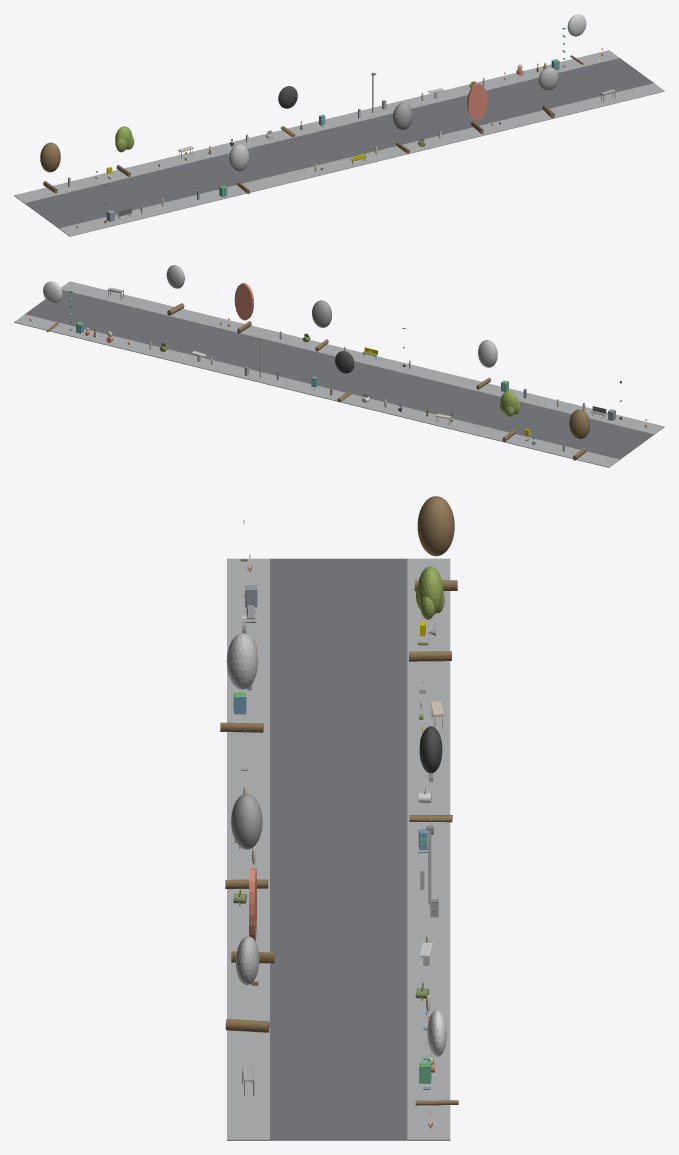
3 views of the same model, one above another, from view 1: azimuth 30°, elevation 25°; view 2: azimuth 150°, elevation 25°; view 3: azimuth 270°, elevation 25° (orthographic). The views are drawn at different scales.
Parts seen in each view (by area): view 1: road_slab, sidewalk_left, sidewalk_right, inst_0023, inst_0018, inst_0020, inst_0022, inst_0019, inst_0024, inst_0021, inst_0025; view 2: road_slab, sidewalk_right, sidewalk_left, inst_0023, inst_0018, inst_0020, inst_0022, inst_0019, inst_0024, inst_0021, inst_0025; view 3: road_slab, sidewalk_right, sidewalk_left, inst_0018, inst_0020, inst_0022, inst_0019, inst_0024, inst_0021, inst_0025.
Part boxes in pixels (left/top/right/bottom): road_slab: left=25, top=58, right=653, bottom=228; sidewalk_left: left=59, top=83, right=664, bottom=236; sidewalk_right: left=14, top=50, right=619, bottom=203; inst_0023: left=467, top=83, right=487, bottom=134; inst_0018: left=40, top=142, right=60, bottom=193; inst_0020: left=229, top=144, right=249, bottom=194; inst_0022: left=392, top=103, right=412, bottom=153; inst_0019: left=115, top=126, right=134, bottom=177; inst_0024: left=538, top=67, right=558, bottom=118; inst_0021: left=278, top=86, right=297, bottom=137; inst_0025: left=567, top=14, right=586, bottom=64; road_slab: left=25, top=290, right=654, bottom=459; sidewalk_right: left=14, top=314, right=619, bottom=467; sidewalk_left: left=61, top=281, right=664, bottom=434; inst_0023: left=234, top=283, right=254, bottom=333; inst_0018: left=569, top=409, right=590, bottom=460; inst_0020: left=476, top=340, right=497, bottom=389; inst_0022: left=312, top=300, right=331, bottom=351; inst_0019: left=500, top=391, right=520, bottom=441; inst_0024: left=166, top=265, right=184, bottom=315; inst_0021: left=335, top=351, right=354, bottom=401; inst_0025: left=43, top=281, right=62, bottom=332; road_slab: left=270, top=558, right=407, bottom=1140; sidewalk_right: left=407, top=558, right=450, bottom=1140; sidewalk_left: left=227, top=558, right=269, bottom=1140; inst_0018: left=414, top=496, right=457, bottom=591; inst_0020: left=220, top=633, right=263, bottom=732; inst_0022: left=225, top=793, right=268, bottom=888; inst_0019: left=409, top=566, right=451, bottom=661; inst_0024: left=225, top=936, right=269, bottom=1032; inst_0021: left=409, top=726, right=452, bottom=822; inst_0025: left=415, top=1010, right=458, bottom=1105.
Bounding box in the file's own units: 80 × 6.08 × 13.87.
